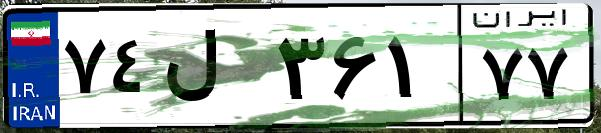1: (385, 28, 445, 110)
3: (270, 28, 330, 110)
4: (110, 28, 158, 98)
6: (330, 28, 385, 110)
7: (57, 26, 110, 100), (475, 38, 525, 113), (525, 38, 570, 115)
ل: (158, 20, 270, 120)
